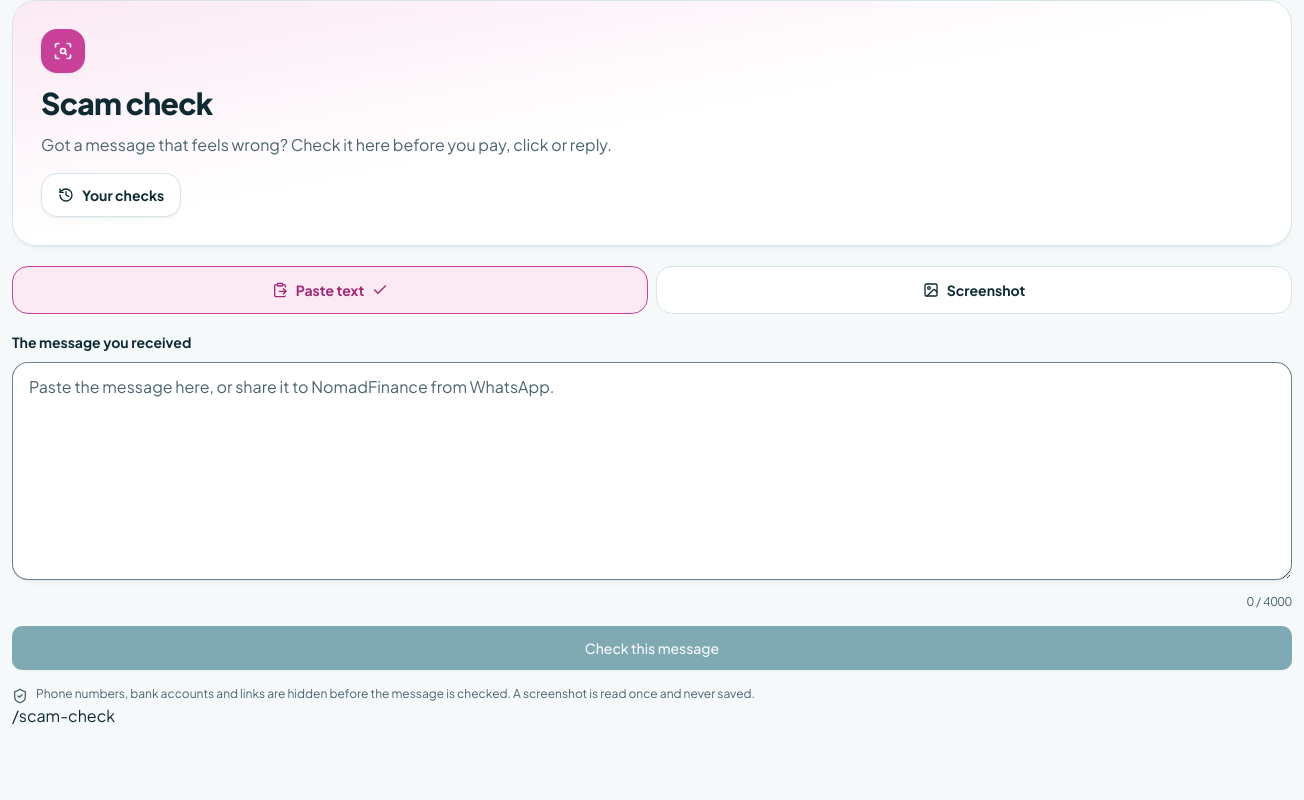
Test: uploading a screenshot › does not send the typed text while the screenshot mode has no picture
The width and height of the screenshot is (1304, 800).
Type "some text" into the text box labelled "The message you received".
click(652, 471); type("some text")  # box left=12, top=362, right=1292, bottom=580
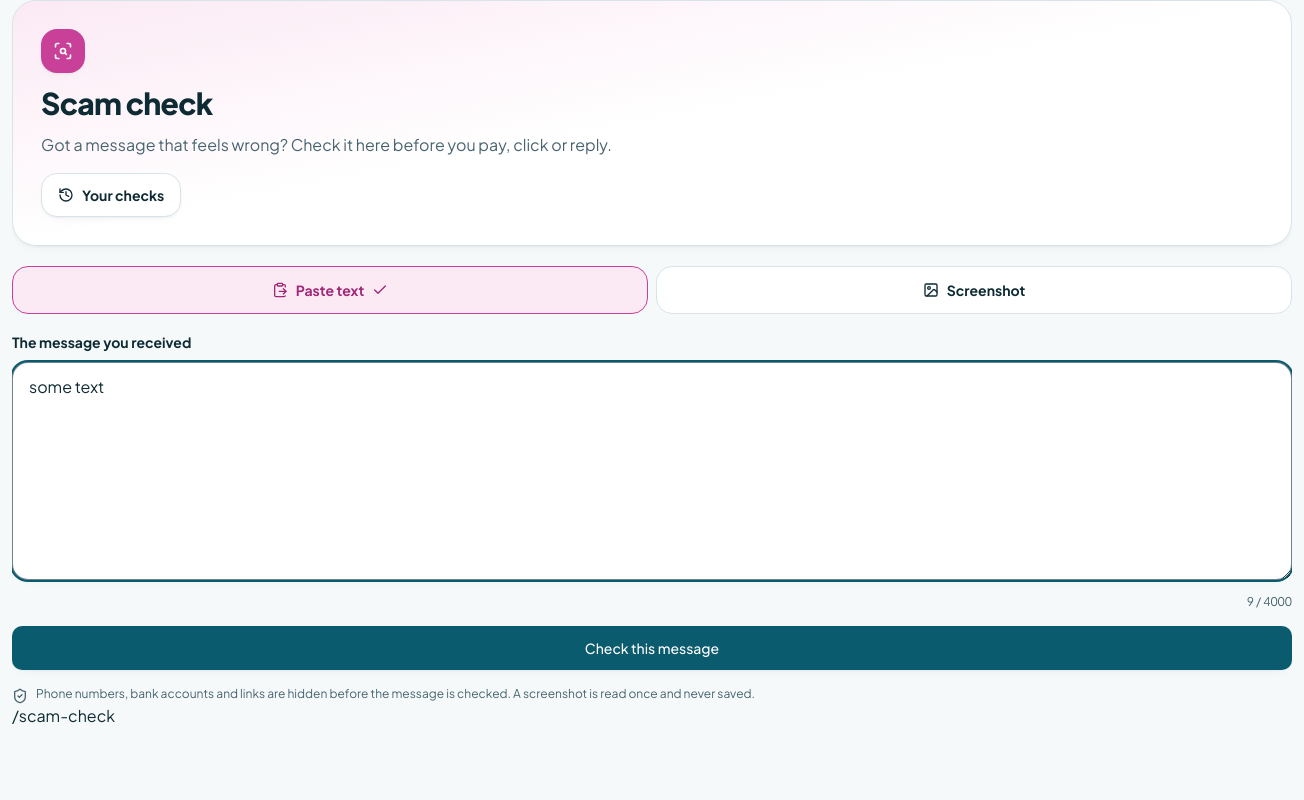
Click the button "Screenshot".
click(974, 290)  # box left=656, top=266, right=1292, bottom=314
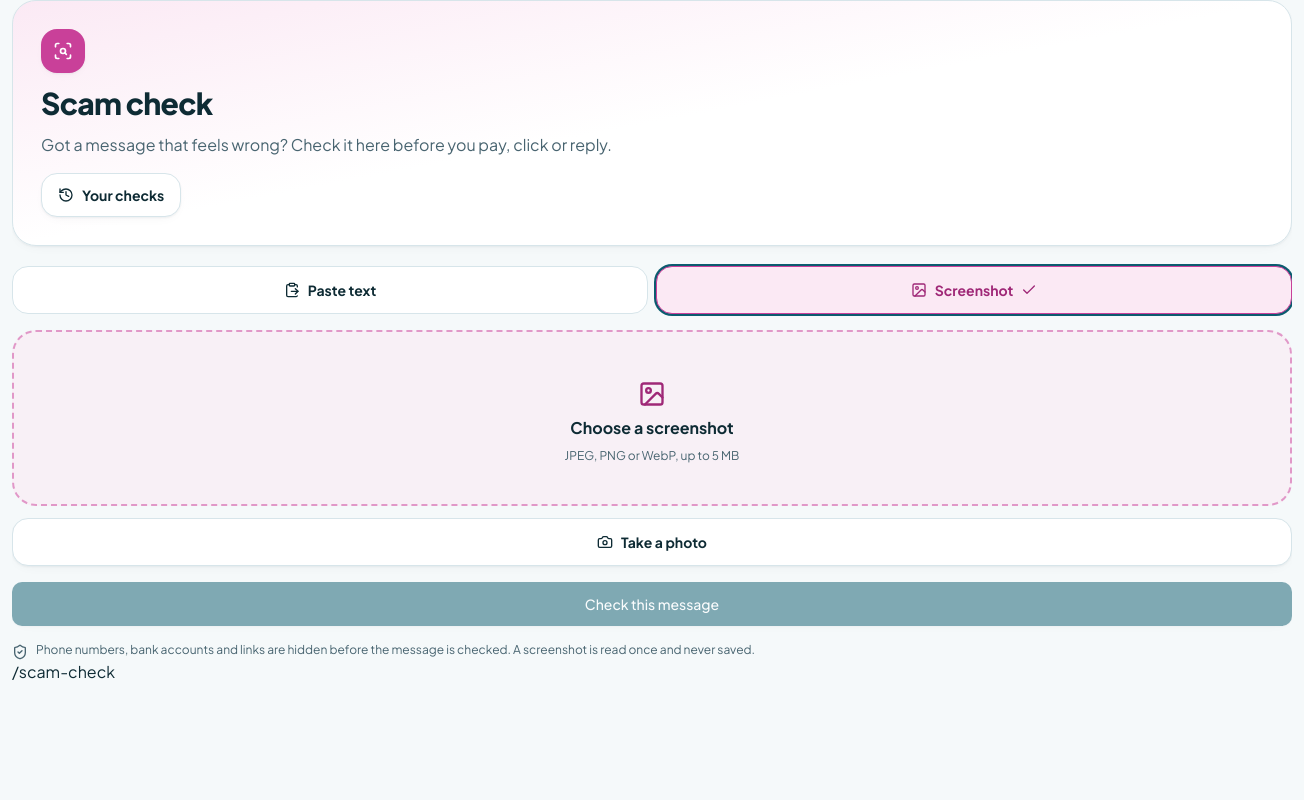
Check: the button "Check this message" is disabled, box left=12, top=582, right=1292, bottom=626
